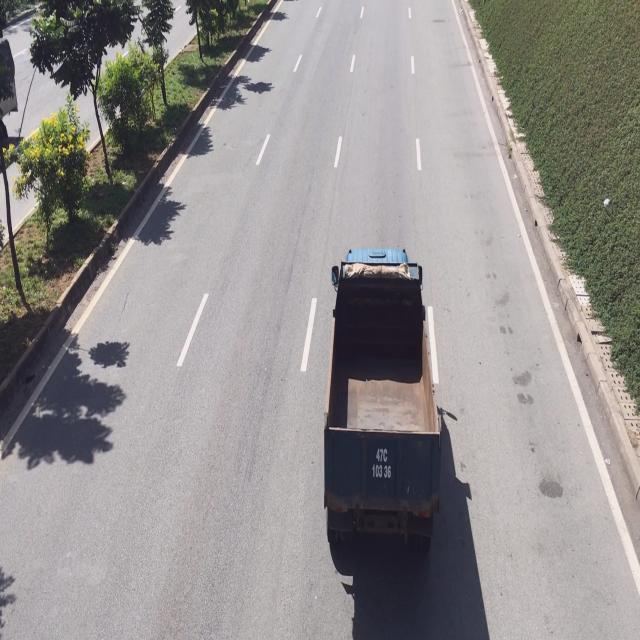truck: (322, 240, 442, 560)
